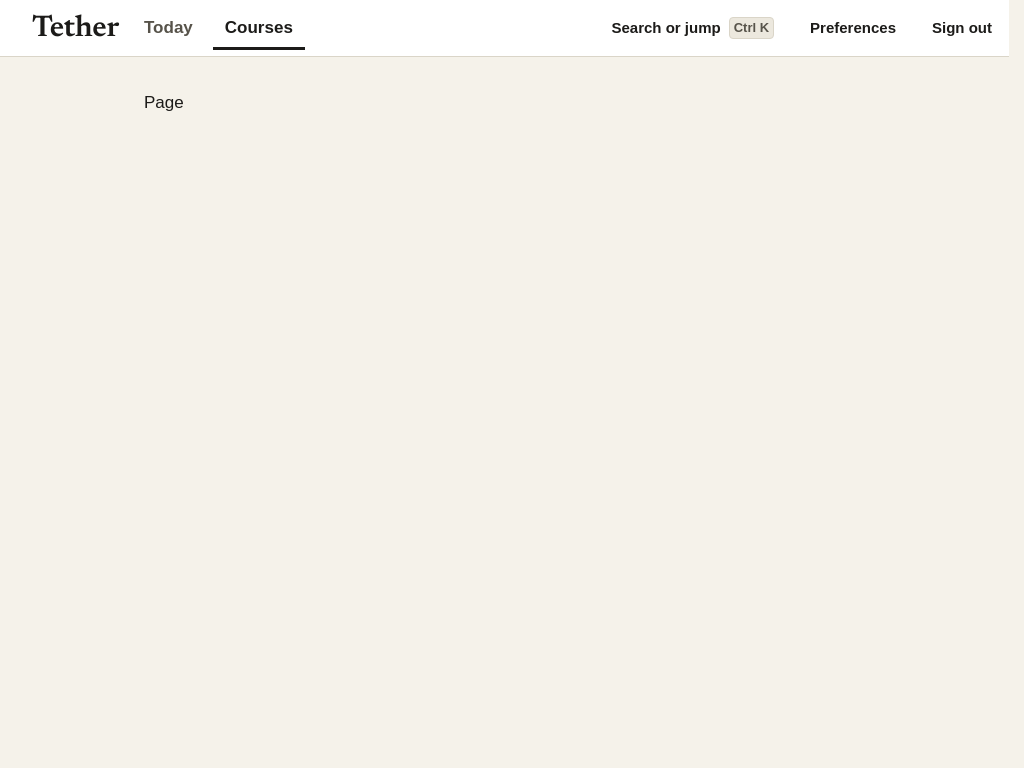
AppShell command palette (slice 7) › opens from the visible button and from Ctrl+K, offers no recording controls, and restores focus on Escape
The width and height of the screenshot is (1024, 768).
Click the button "Search or jump Ctrl K": (693, 28) [598, 6, 788, 50]
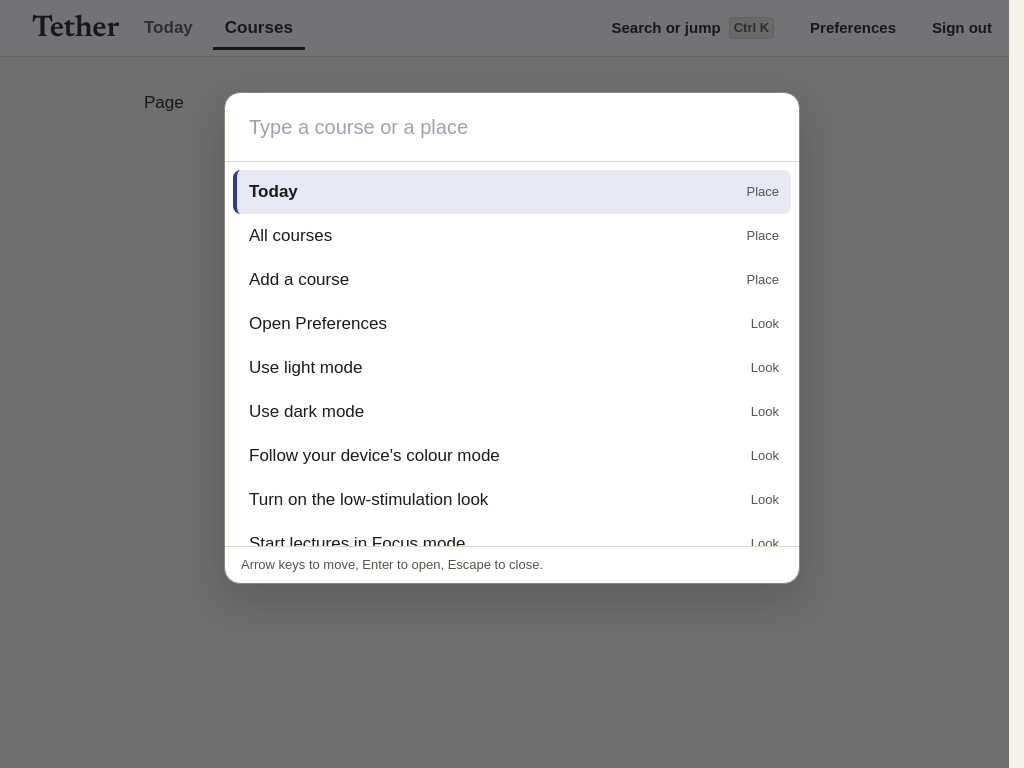
Check: the dialog named "Search or jump" is shown, box [224, 92, 800, 584]
Press Escape
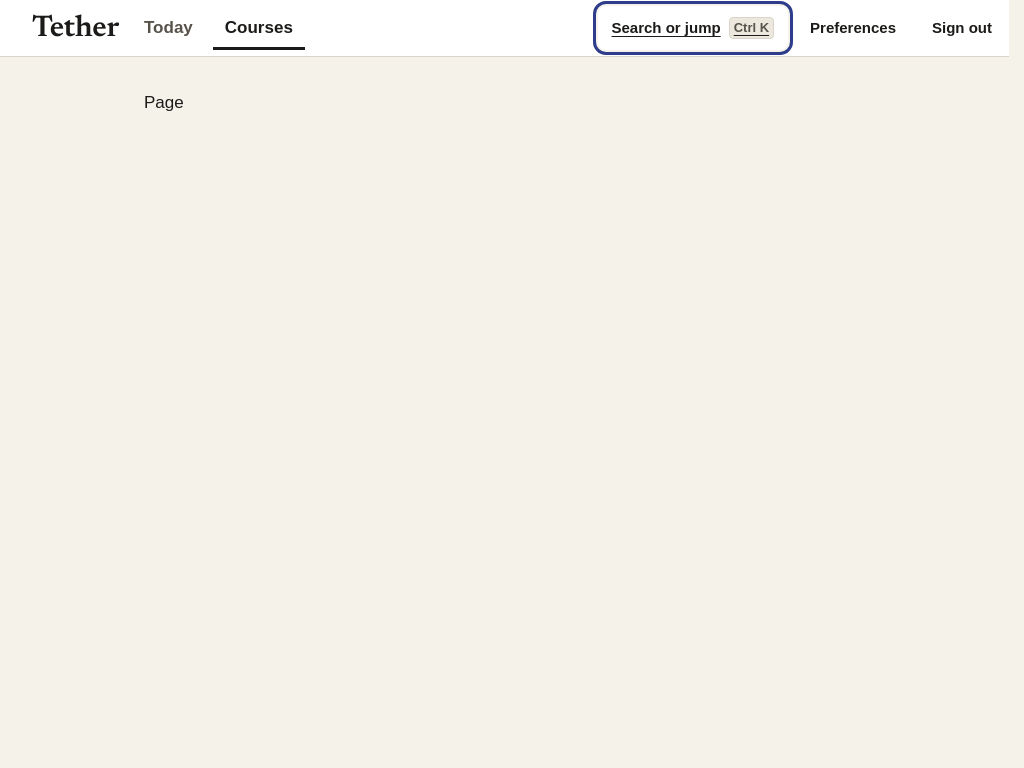
Check: the dialog is gone
Type keys "{Control>}k{/Control}"
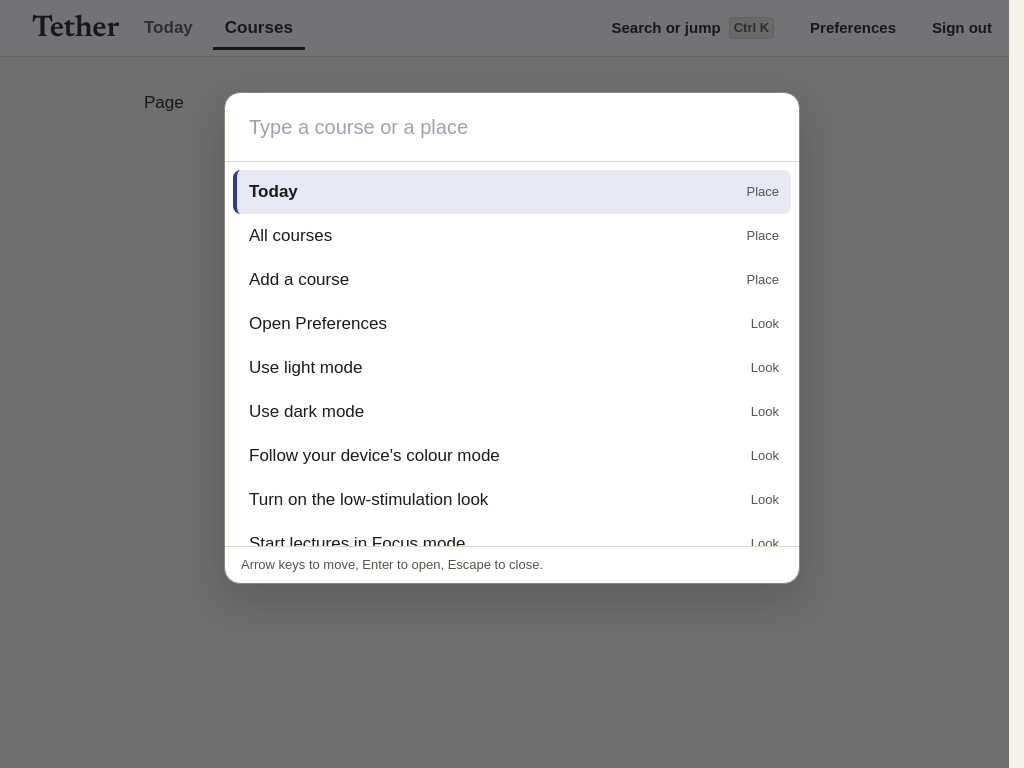
Check: the dialog named "Search or jump" is shown, box [224, 92, 800, 584]
